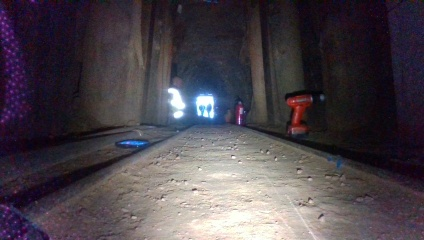cellphone: (115, 135, 152, 150)
drill: (280, 92, 327, 139)
fire_extinguisher: (233, 98, 244, 128)
manikin: (164, 74, 234, 129)
